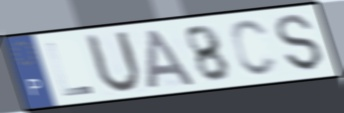8: (185, 23, 231, 83)
A: (146, 27, 199, 91)
C: (228, 17, 281, 79)
L: (44, 40, 97, 99)
S: (274, 13, 326, 73)
U: (83, 29, 144, 97)
